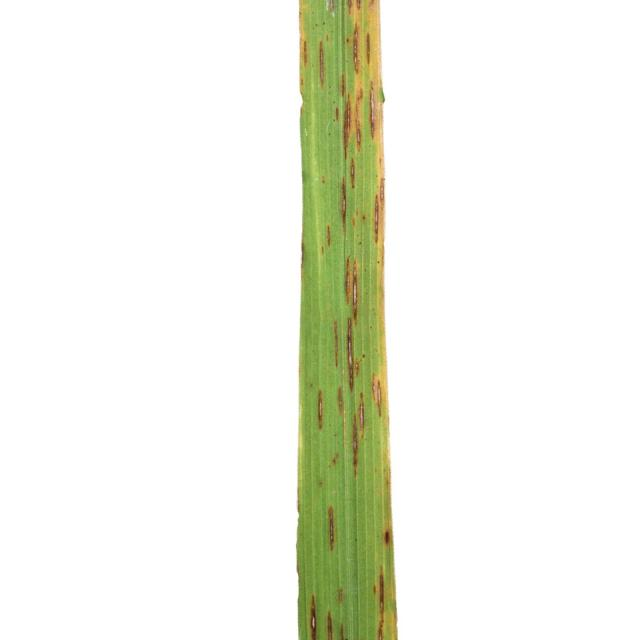Narrow brown: (254, 0, 451, 640)
